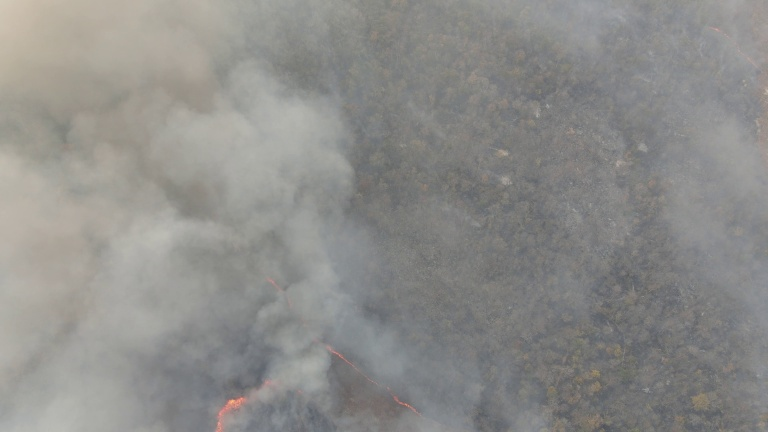fire: (302, 329, 387, 389), (209, 382, 264, 432), (381, 388, 442, 422), (265, 270, 302, 322)
smoke: (1, 2, 298, 428)
